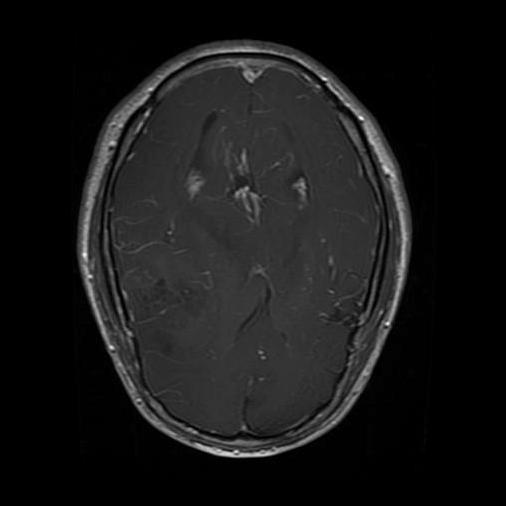Tumour-Glioma: (121, 261, 208, 340)
